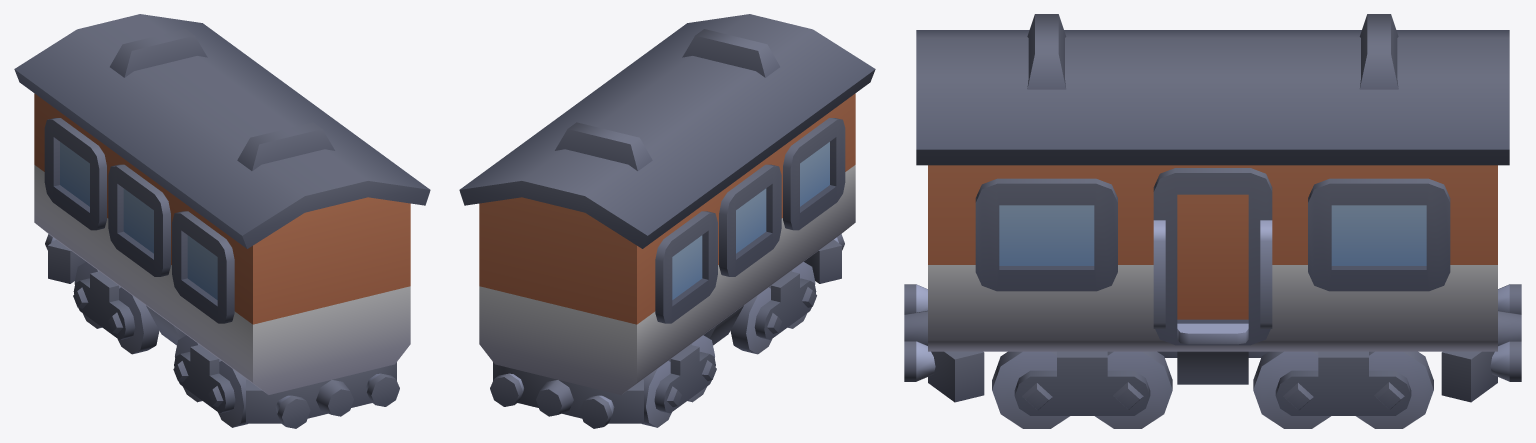
Rendered from train-locomotive-passenger-b.glb.
The picture shows the model from 3 angles, left to right: view 1: azimuth 30°, elevation 25°; view 2: azimuth 150°, elevation 25°; view 3: azimuth 270°, elevation 25°; orthographic projection. The views are drawn at different scales.
Parts seen in each view (by area): view 1: train-locomotive-passenger-b, wheels-back, wheels-front; view 2: train-locomotive-passenger-b, wheels-front, wheels-back; view 3: train-locomotive-passenger-b, wheels-front, wheels-back.
Boxes of the visible parts, x1=… form: train-locomotive-passenger-b: x1=14, y1=14, x2=430, y2=428; wheels-back: x1=73, y1=262, x2=159, y2=354; wheels-front: x1=173, y1=335, x2=247, y2=427; train-locomotive-passenger-b: x1=459, y1=14, x2=875, y2=428; wheels-front: x1=730, y1=262, x2=816, y2=354; wheels-back: x1=642, y1=335, x2=716, y2=427; train-locomotive-passenger-b: x1=904, y1=14, x2=1521, y2=402; wheels-front: x1=992, y1=351, x2=1172, y2=428; wheels-back: x1=1253, y1=351, x2=1433, y2=428.
Size of the model in its own units: 1.25 by 1.65 by 2.6.
